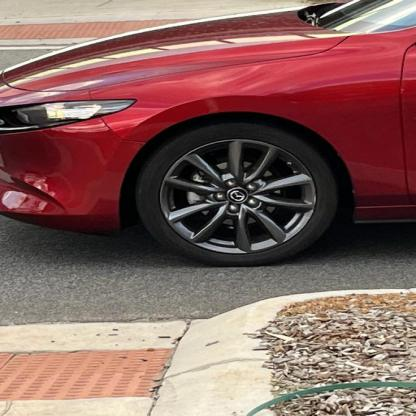Tire: (136, 123, 338, 266)
